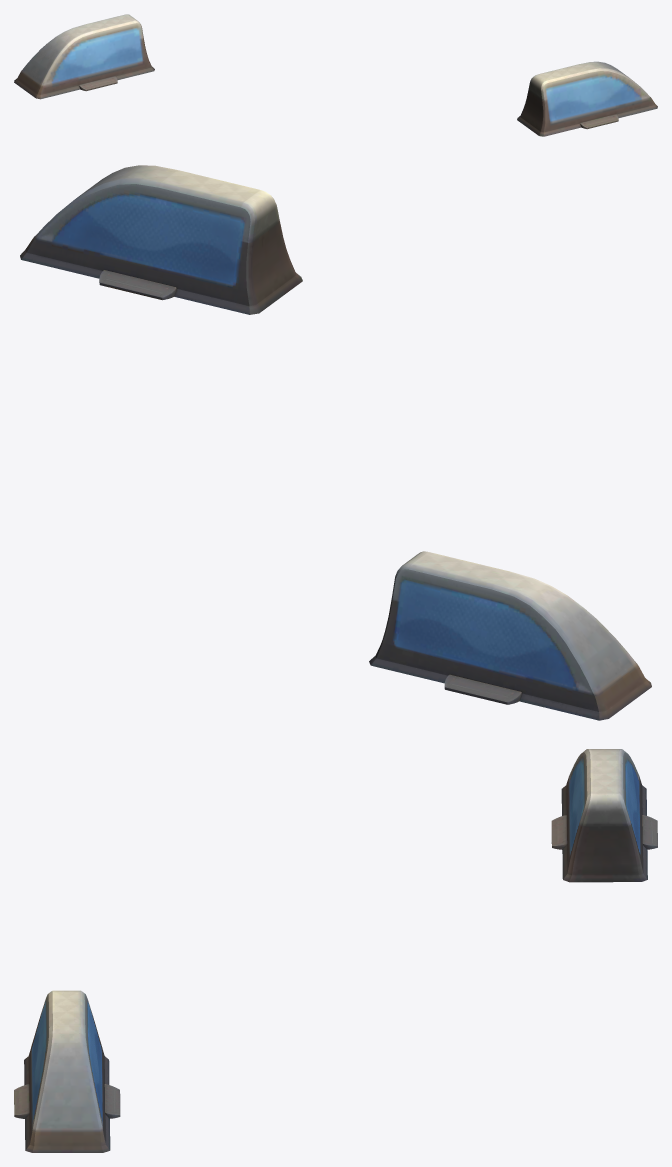
File: pref_sm_4v4beachtech_bk_downblock_d01a_lv2.fbx
3 views of the same model, one above another, from view 1: azimuth 30°, elevation 25°; view 2: azimuth 150°, elevation 25°; view 3: azimuth 270°, elevation 25° (orthographic). The views are drawn at different scales.
Visible parts, largest first — view 1: pref_sm_4v4beachtech_bk_downblock_d01a_lv2; view 2: pref_sm_4v4beachtech_bk_downblock_d01a_lv2; view 3: pref_sm_4v4beachtech_bk_downblock_d01a_lv2.
Boxes of the visible parts, left/top/right/bottom form: pref_sm_4v4beachtech_bk_downblock_d01a_lv2: left=14, top=14, right=657, bottom=136; pref_sm_4v4beachtech_bk_downblock_d01a_lv2: left=20, top=165, right=651, bottom=720; pref_sm_4v4beachtech_bk_downblock_d01a_lv2: left=14, top=749, right=657, bottom=1152.
Bounding box in the file's own units: 15.65 × 1.53 × 11.63.
